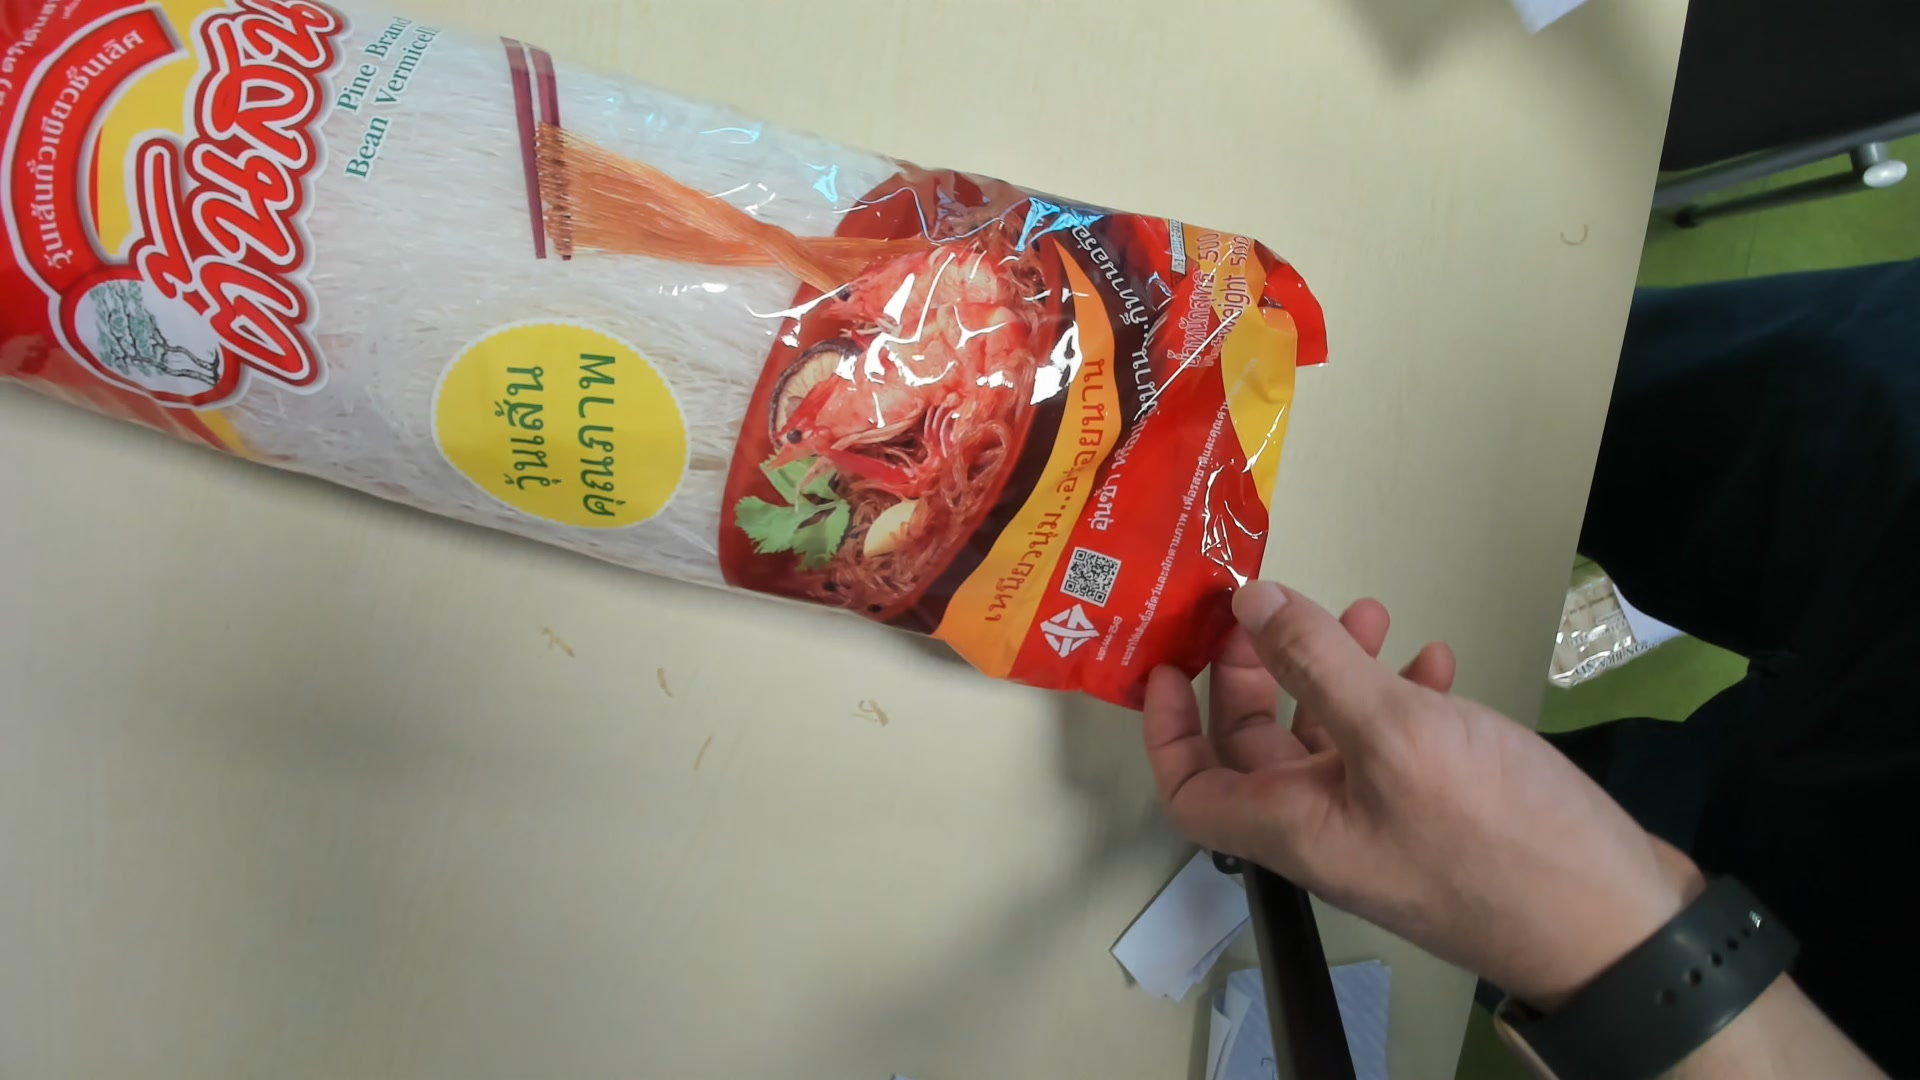BeeHoonVermicelli_500-599g_Halal_NonHealthy: (3, 1, 1312, 702)
